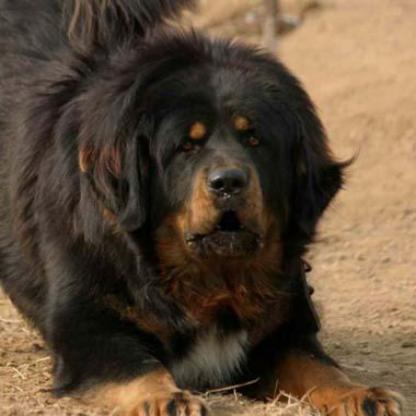Tibetan_mastiff: (0, 0, 407, 413)
